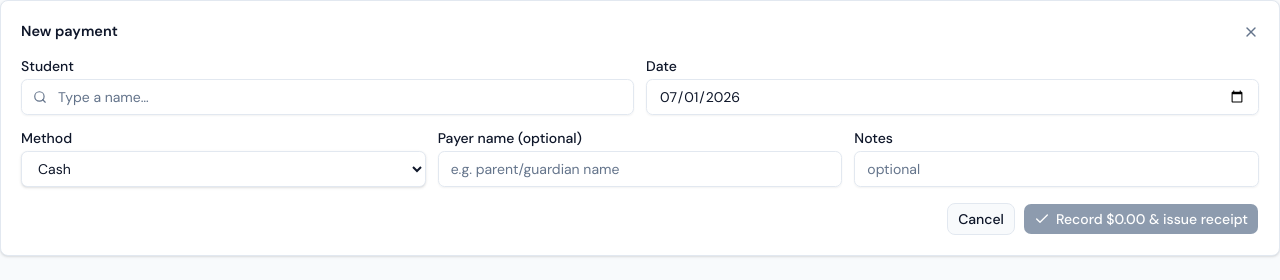
Test: NewPaymentForm — student picker › shows a 'No matches' hint when search yields nothing
The image size is (1280, 280).
Type "Nonexistent" into the field labelled "Student" at (328, 97), box [21, 79, 634, 115]
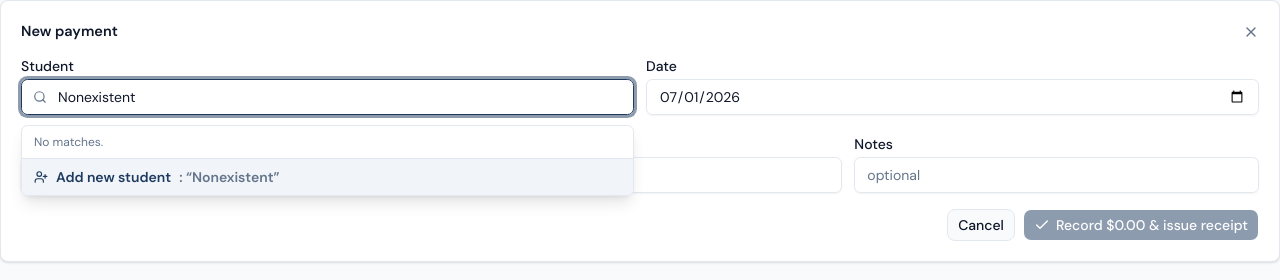
Expected: the list item "No matches." is shown, [34, 134, 103, 150]
